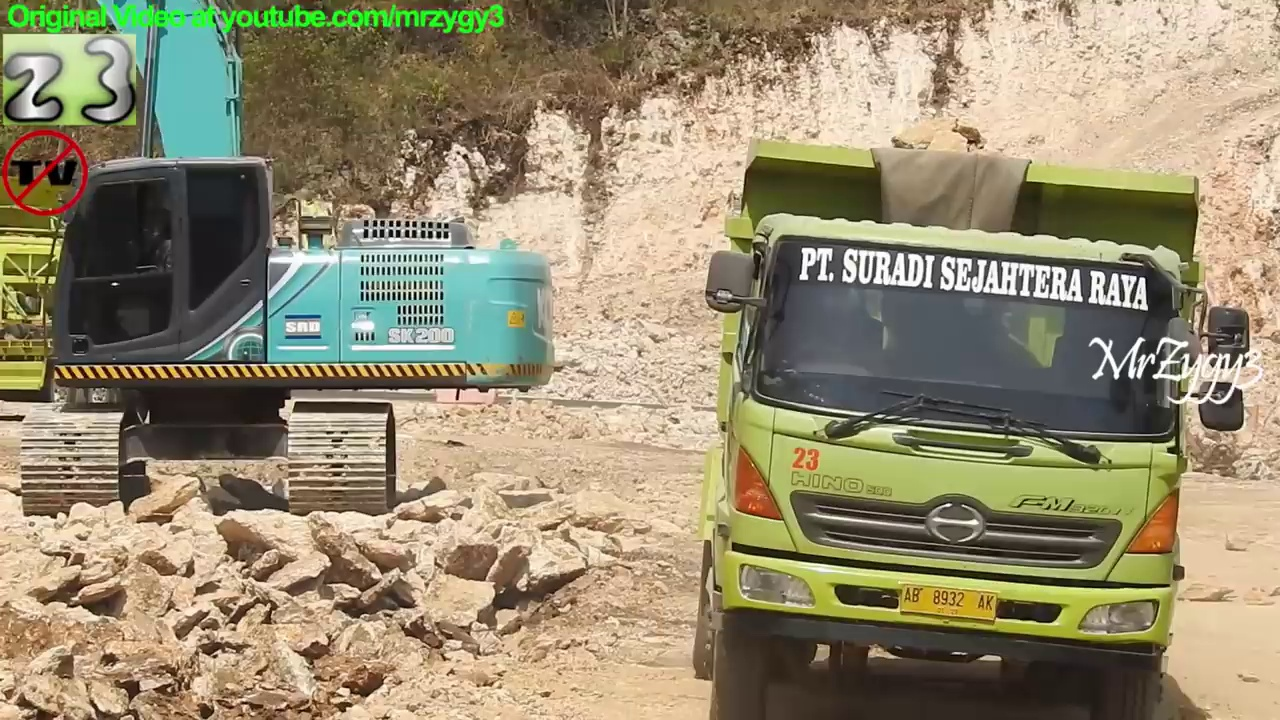excavator: (1, 1, 562, 517)
truck: (693, 130, 1255, 720), (2, 158, 405, 417)
